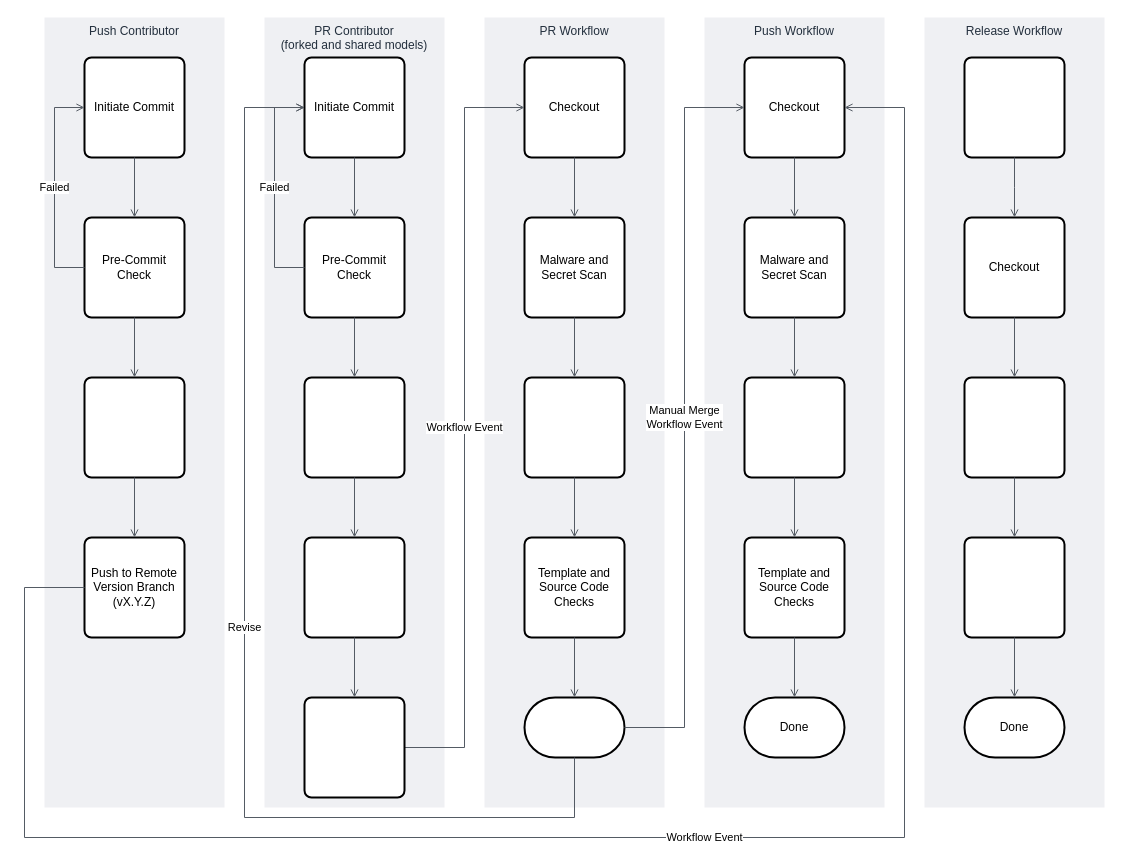
Some shapes in this 1122 by 863 pixel diagram are drawn without their labels. The shapes that lost their labels are listed below. From the top down, each one's centre as x and y in pixels, then its label:
At [1014,107]: "Publish GitHub Release (manual)".
At [134,427]: "Commit to Local Version Branch (vX.Y.Z)".
At [354,427]: "Commit to Local Development Branch".
At [574,427]: "Build".
At [794,427]: "Build and Upload to S3 Development".
At [1014,427]: "Build and Upload to S3 Release".
At [354,587]: "Push to Remote Development Branch".
At [1014,587]: "Install to Reference Account".
At [354,747]: "Create/Update PR to Version Branch (vX.Y.Z)".
At [574,727]: "Wait for PR Review and Merge".
